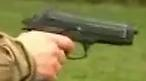gun: (1, 1, 146, 81)
